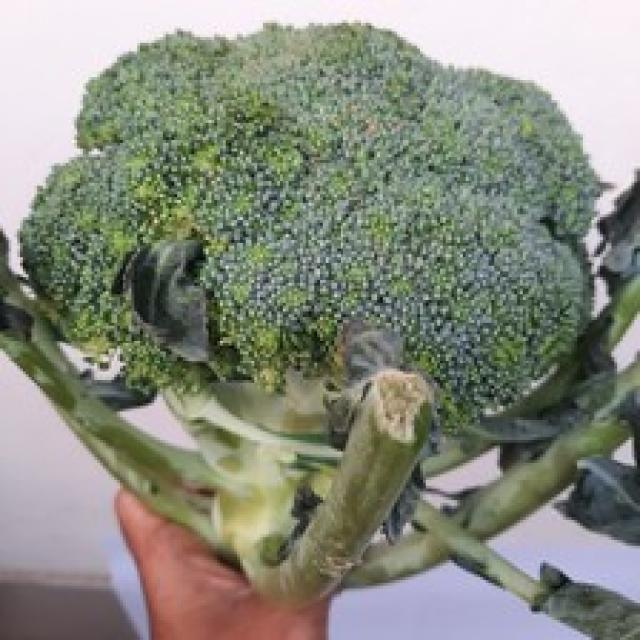Broccoli: (20, 24, 598, 423), (20, 24, 598, 422)
